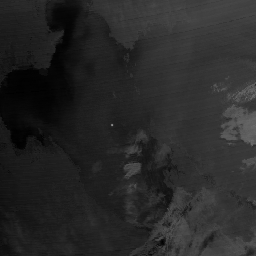Target: (109, 123, 114, 127)
